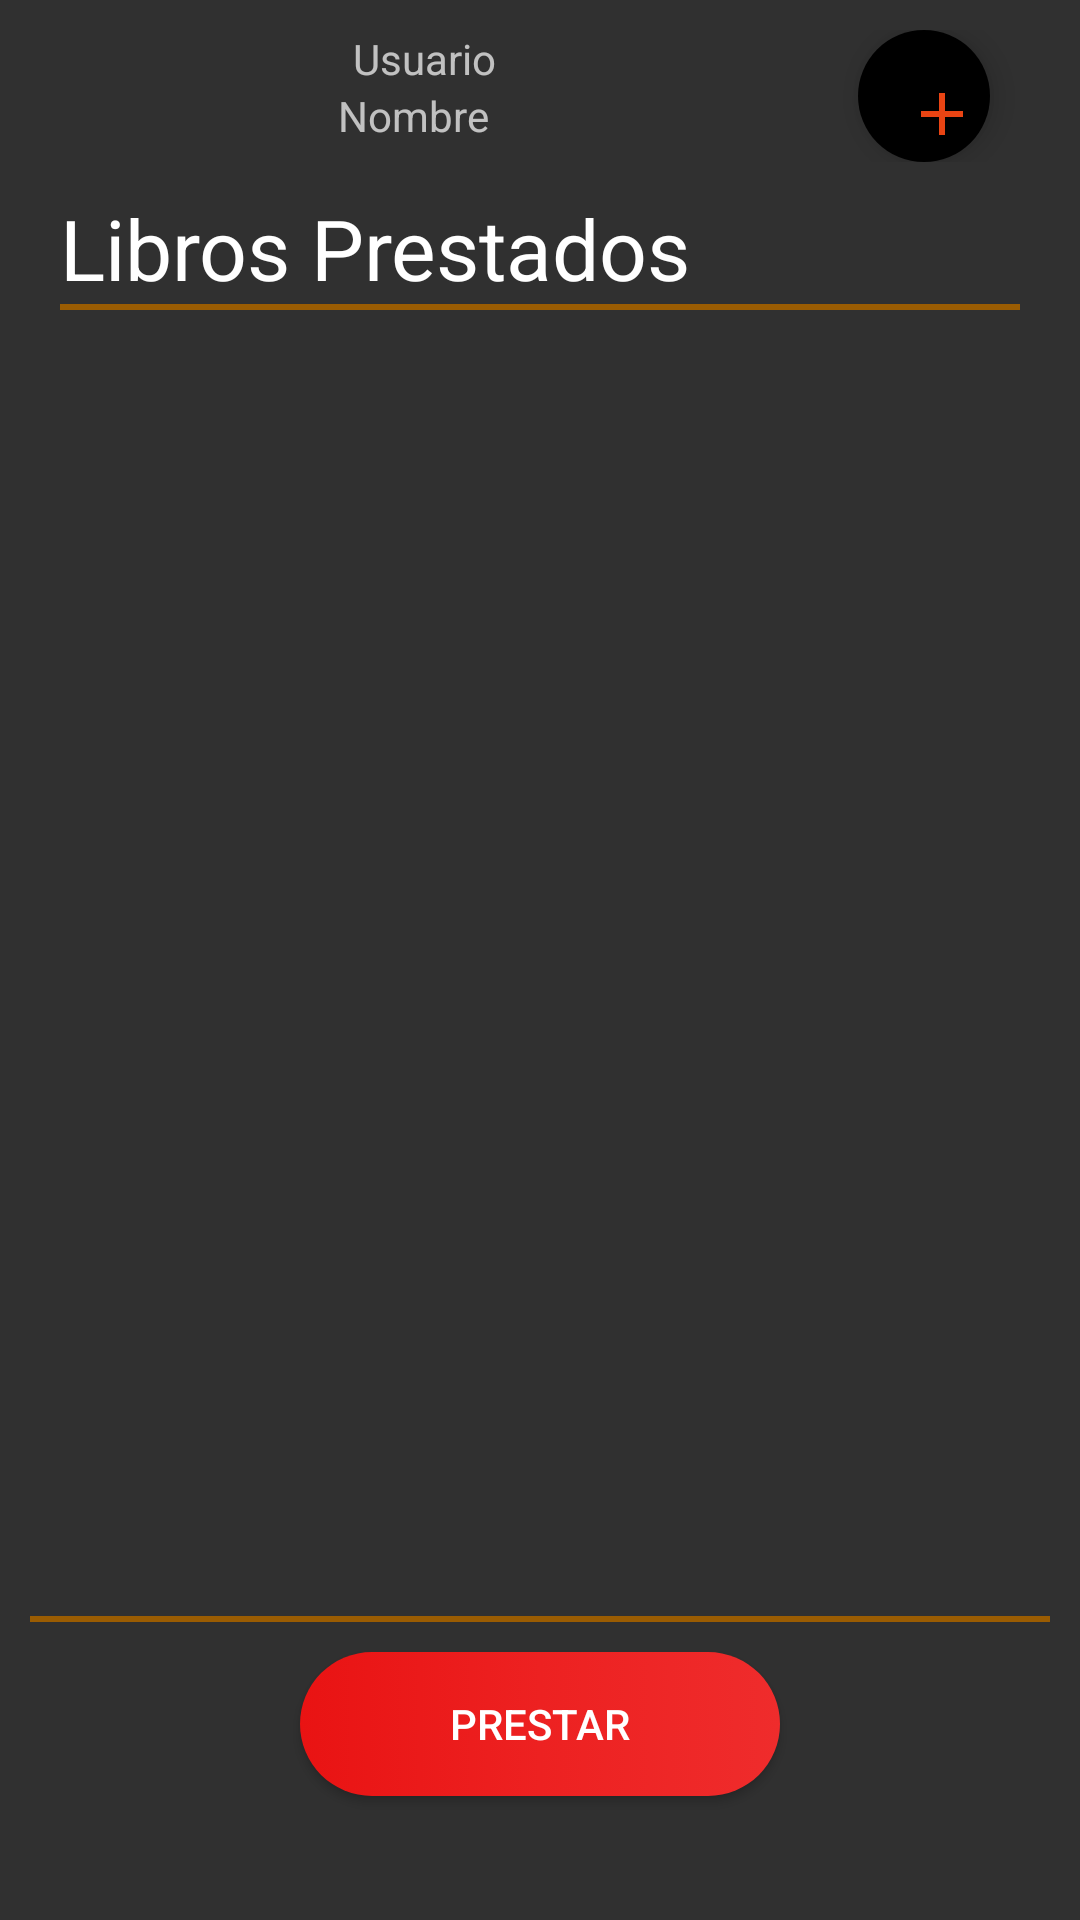

Where to tap for icons on this 1080px x 1920px app screen, as (x,y):
mas: (924,96)
